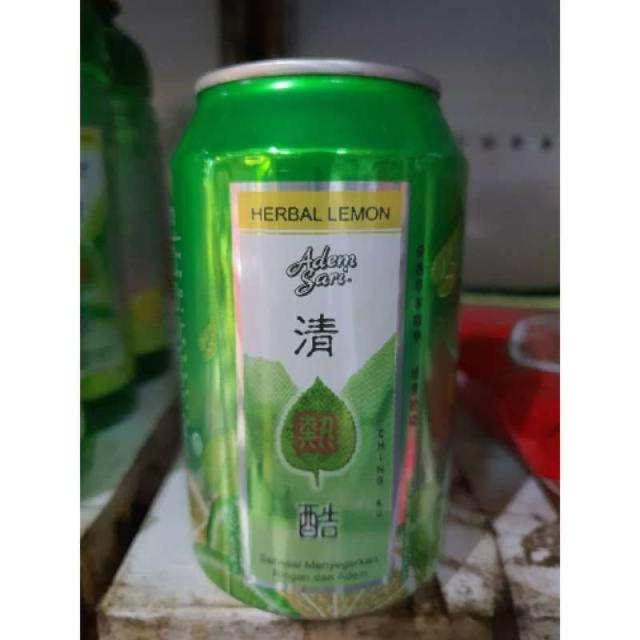ademsarikaleng: (167, 56, 470, 620)
